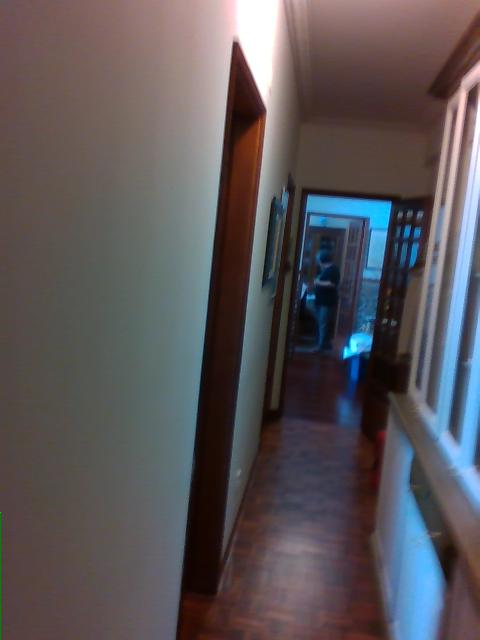door: (362, 194, 432, 429), (332, 219, 362, 356)
